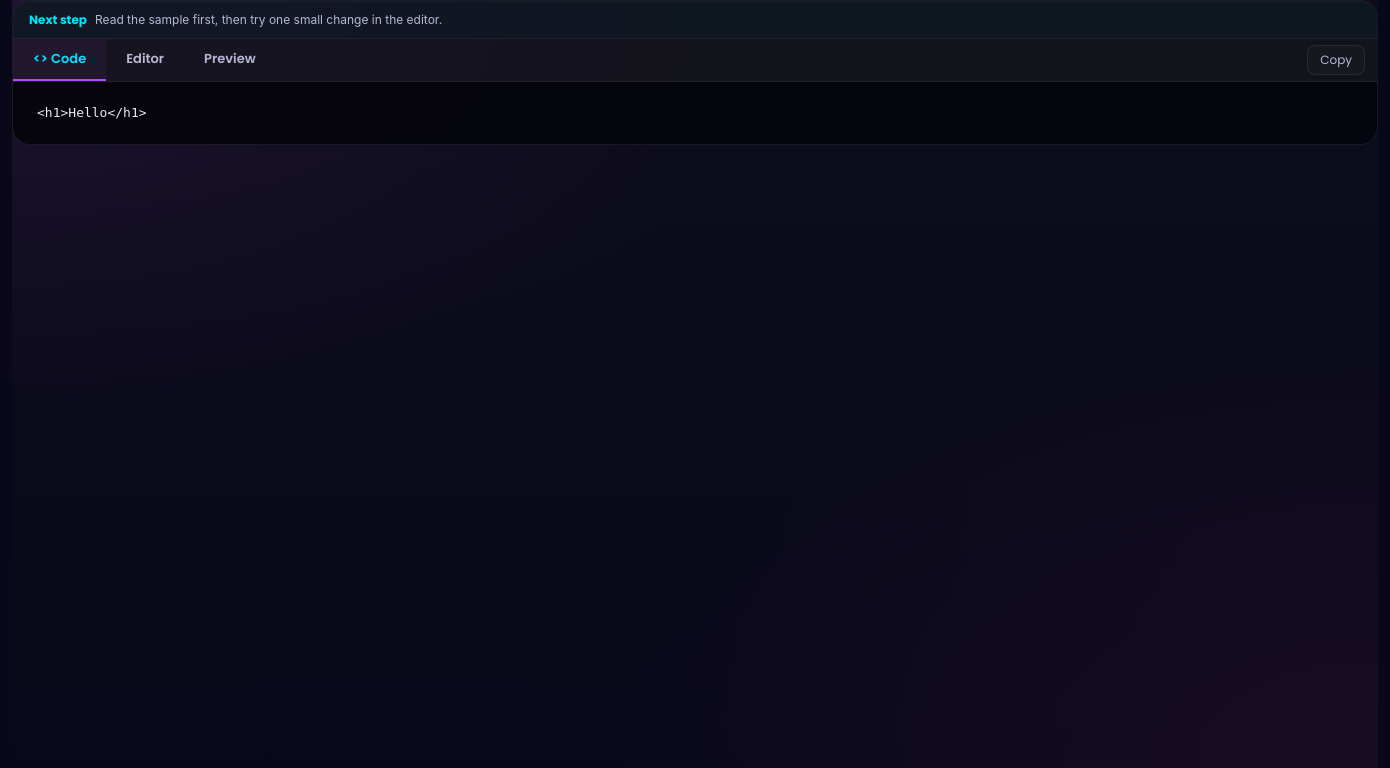
it: CodePreview › marks active practice views as tabs for assistive technology
Expected: the element named "code practice views" is shown, [13,39,276,81]
Click the tab "Editor" at (145, 60), box [106,39,184,81]
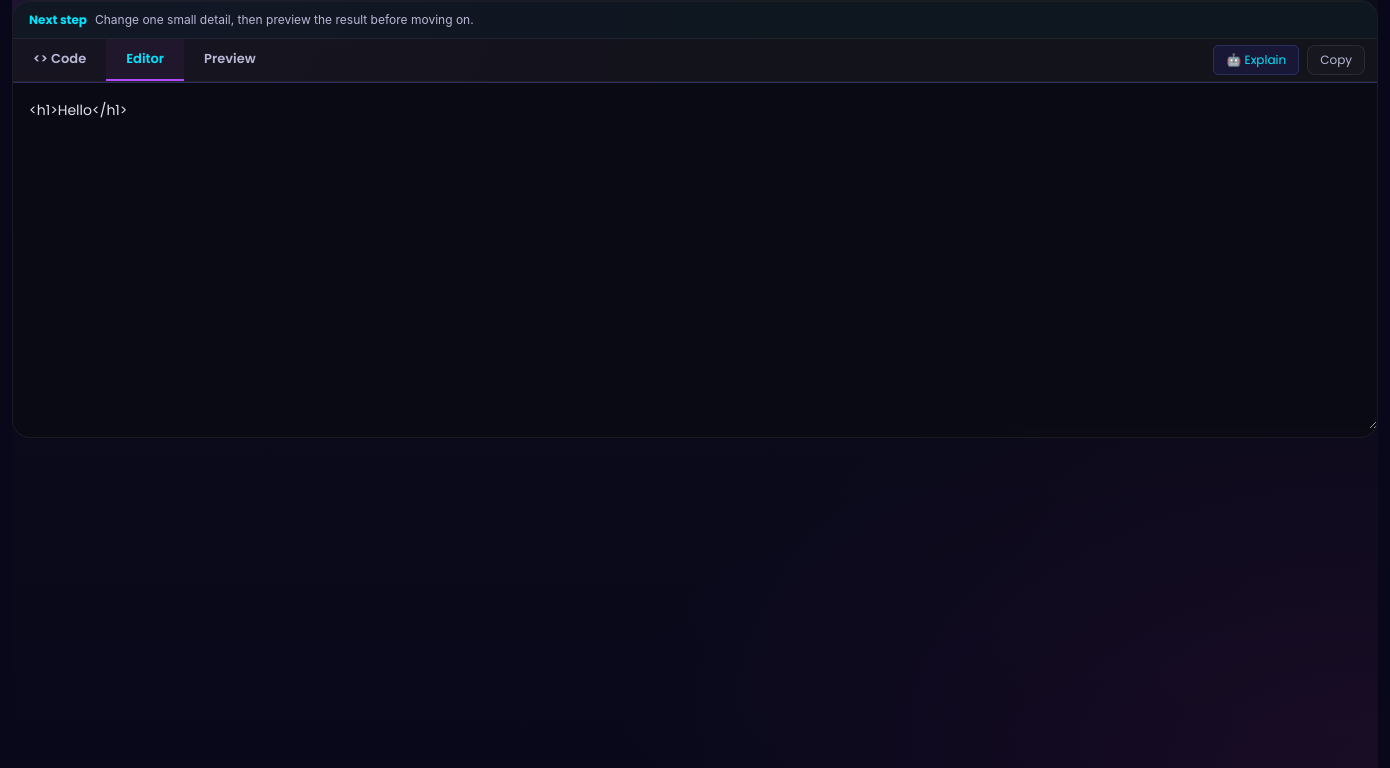
Result: the text "Change one small detail" is shown at [95,12,474,27]
